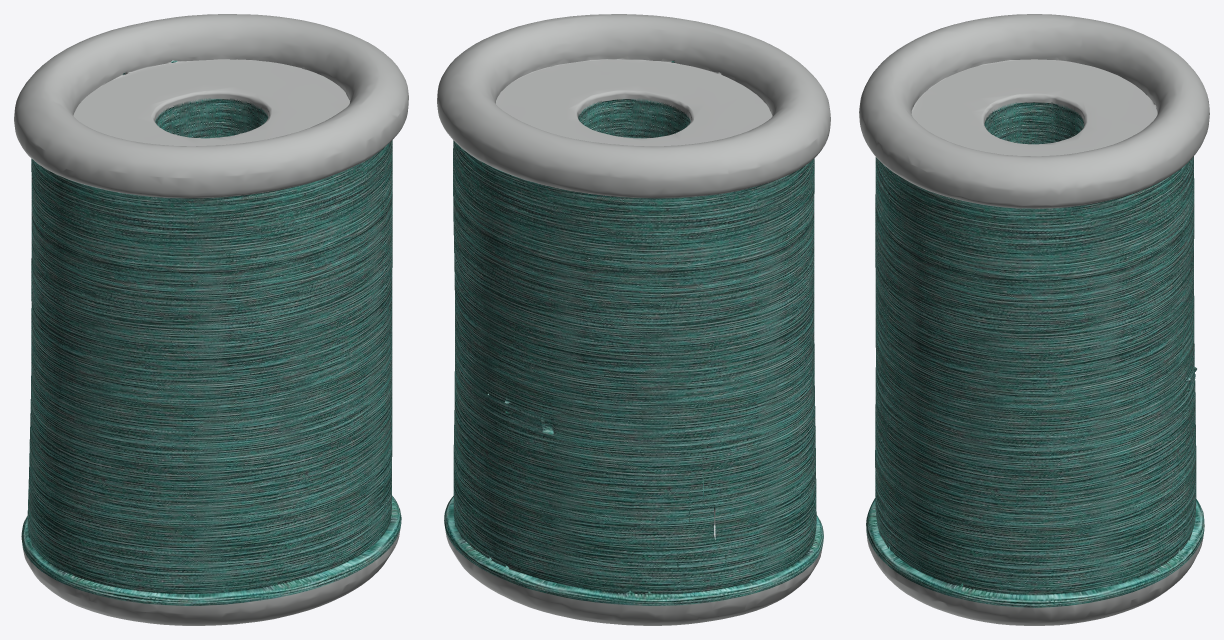
Rendered from green-silk-fast.glb.
3 renders of one model, left to right at view 1: azimuth 30°, elevation 25°; view 2: azimuth 150°, elevation 25°; view 3: azimuth 270°, elevation 25°, orthographic. The views are drawn at different scales.
Parts seen in each view (by area): view 1: world; view 2: world; view 3: world.
Boxes of the visible parts, box(x1,y1,x2,y2) form: world: box(14, 14, 408, 625); world: box(437, 14, 830, 625); world: box(859, 14, 1209, 625).
Size of the model in its own units: 0.7729 by 0.9987 by 0.6774.
2 materials, 1 textured.
